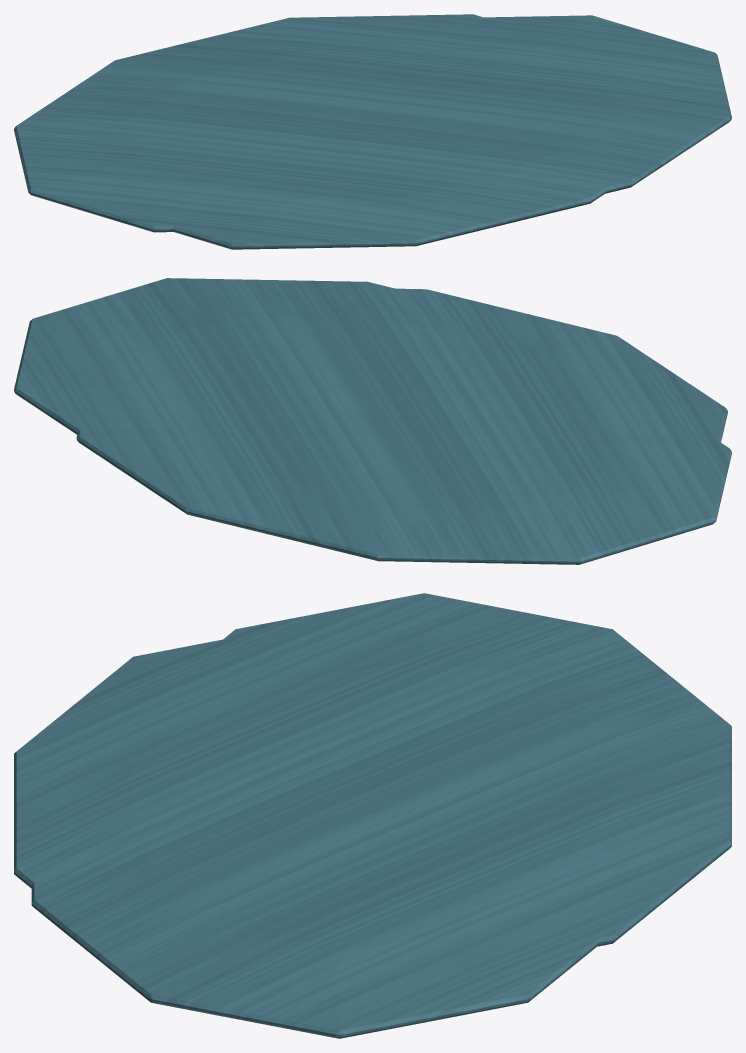
The model's file is PROP-6D5770ACF085_lod1.glb.
3 renders of one model, top to bottom at view 1: azimuth 30°, elevation 25°; view 2: azimuth 150°, elevation 25°; view 3: azimuth 270°, elevation 25°, orthographic. The views are drawn at different scales.
Parts seen in each view (by area): view 1: surface_hazard.001; view 2: surface_hazard.001; view 3: surface_hazard.001.
Part boxes in pixels (bbox=[...]): surface_hazard.001: bbox=[14, 14, 731, 249]; surface_hazard.001: bbox=[14, 278, 731, 564]; surface_hazard.001: bbox=[14, 593, 731, 1038].
Size of the model in its own units: 1.31 by 0.036 by 0.9072.
1 material, 1 textured.
